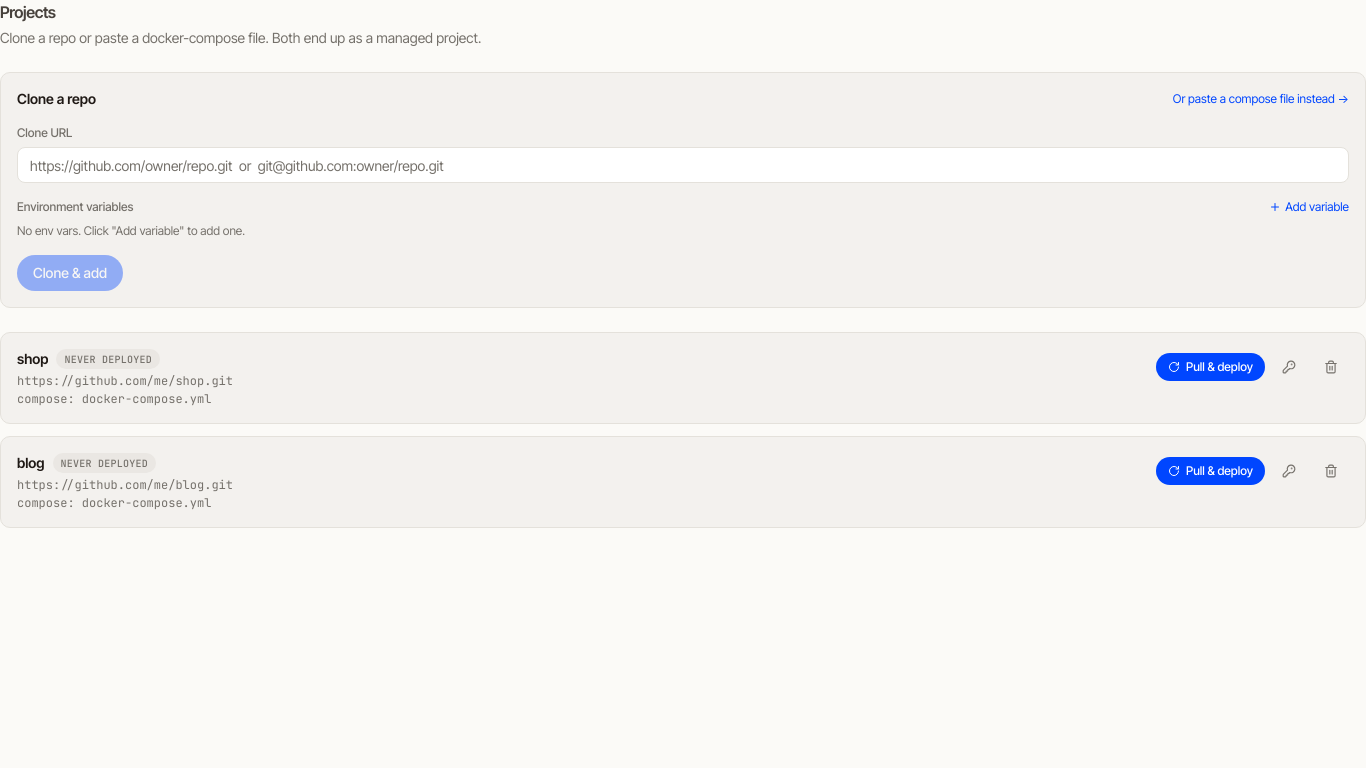
Test: editing environment variables › opens the editor for the chosen project and closes it again
The width and height of the screenshot is (1366, 768).
What coordinates should you click on to do the following:
click the button named "Edit env vars for blog"
I would click on:
 (1289, 471)
Its box is [1271,453,1307,489].
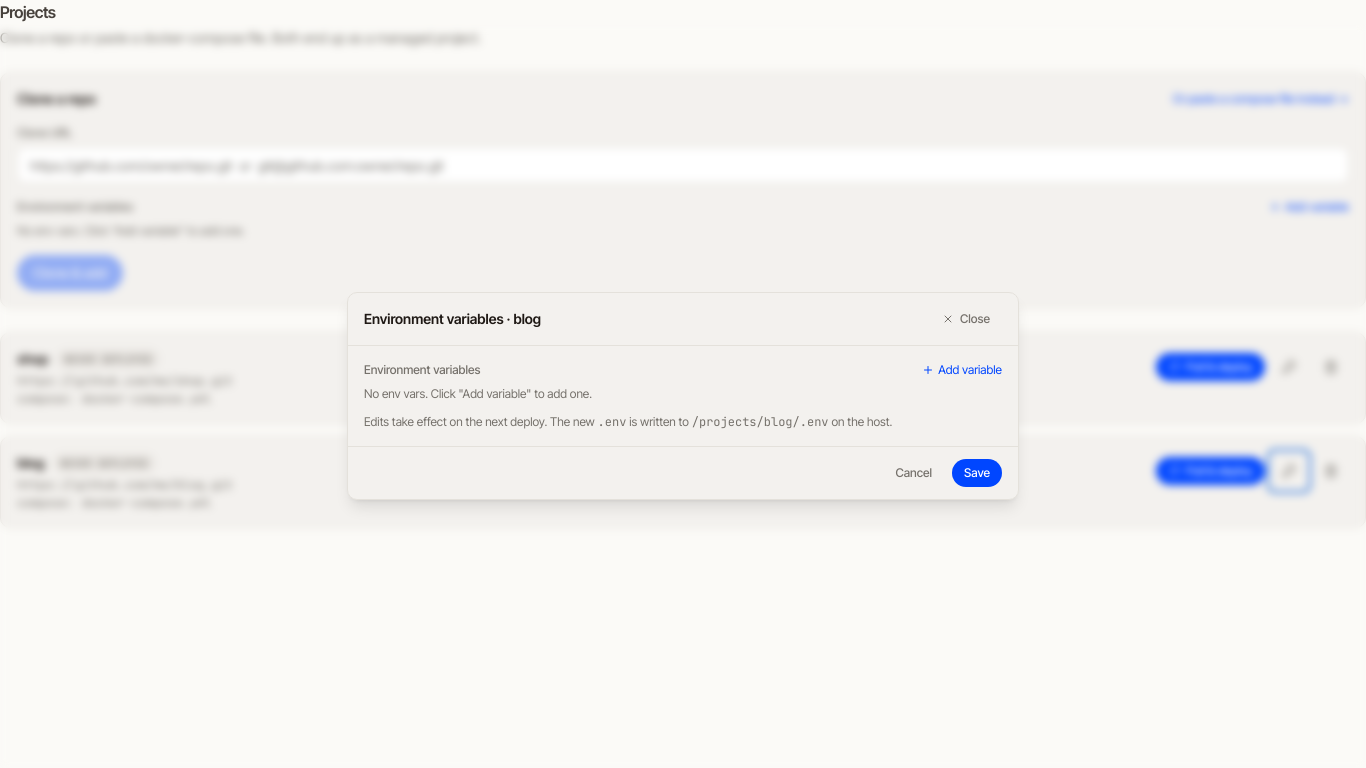
Check: the dialog "Environment variables · blog" is shown, box [347,292,1019,500]
What coordinates should you click on to do the following:
click the button "Cancel"
I would click on:
 (914, 473)
Its box is [883,459,944,487].
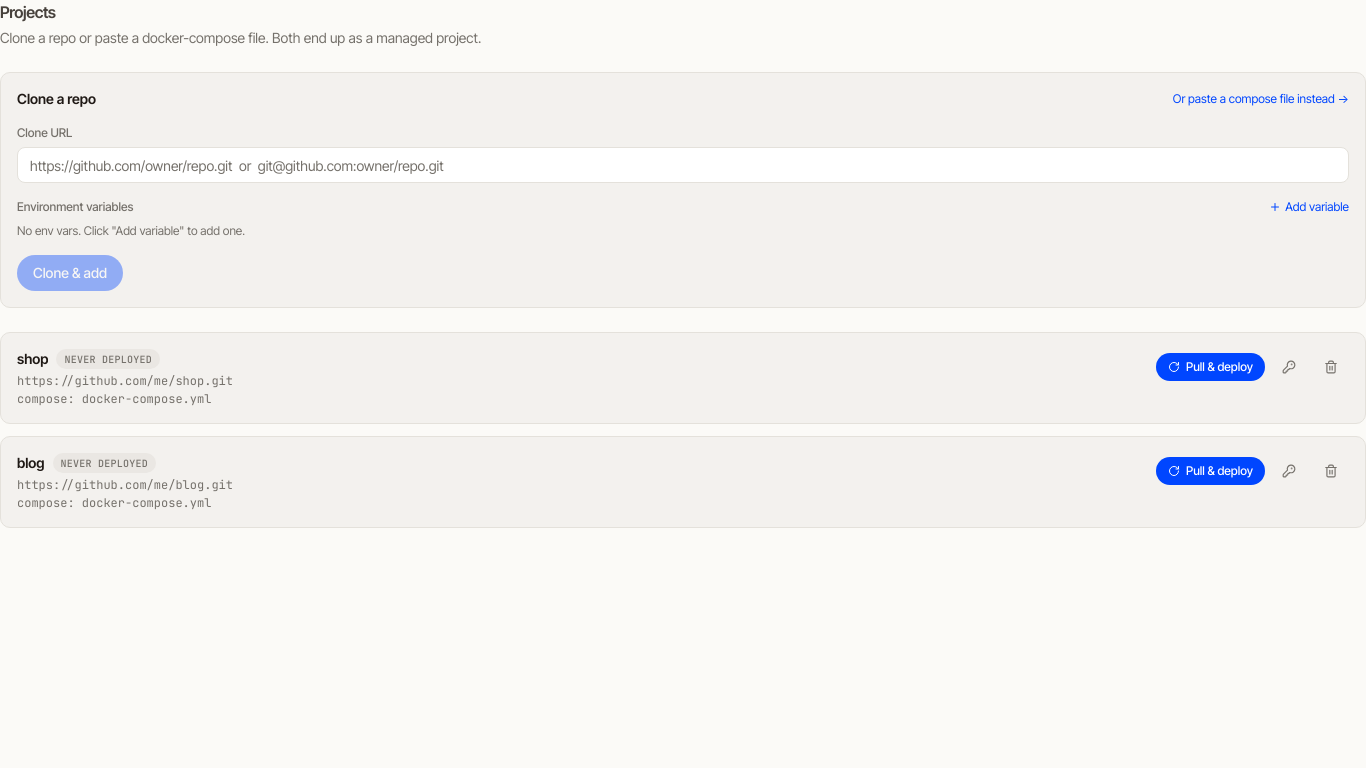
Check: the dialog is gone
